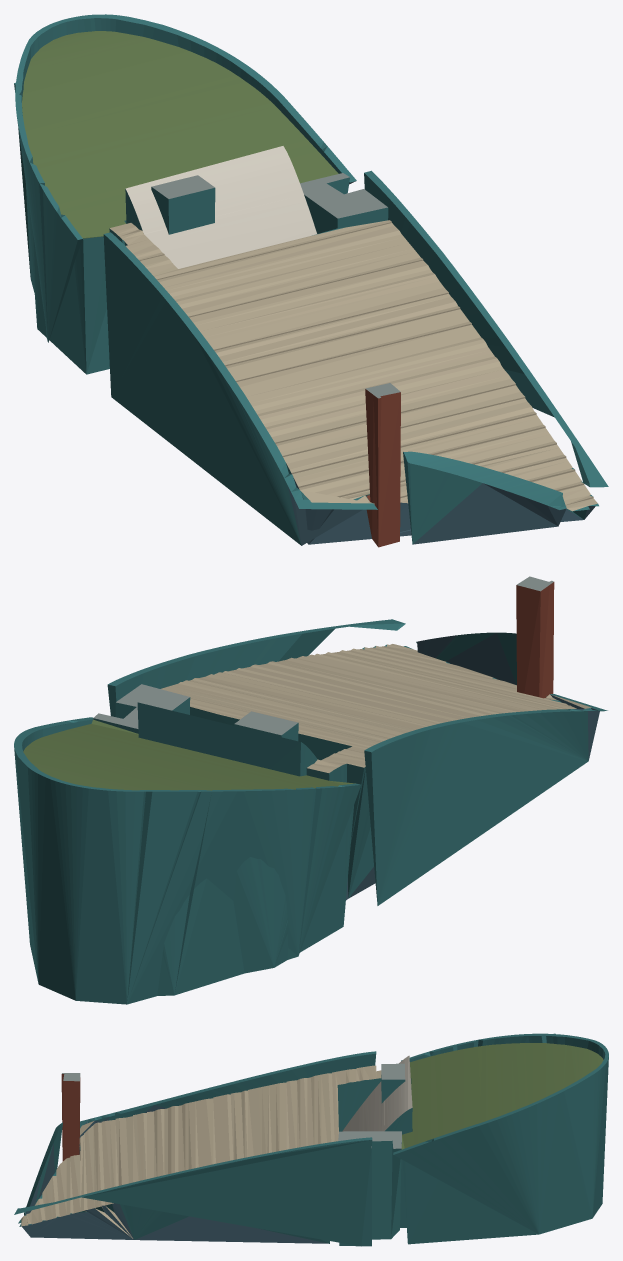
File: nemo.lod2.glb
The picture shows the model from 3 angles, top to bottom: view 1: azimuth 30°, elevation 25°; view 2: azimuth 150°, elevation 25°; view 3: azimuth 270°, elevation 25°; orthographic projection. The views are drawn at different scales.
Visible parts, largest first — view 1: lod2; view 2: lod2; view 3: lod2.
Part boxes in pixels (x1,y1,x2,y2): lod2: (14, 14, 608, 547); lod2: (14, 576, 607, 1004); lod2: (14, 1033, 608, 1246).
Bounding box in the file's own units: 44.83 × 32.58 × 117.
